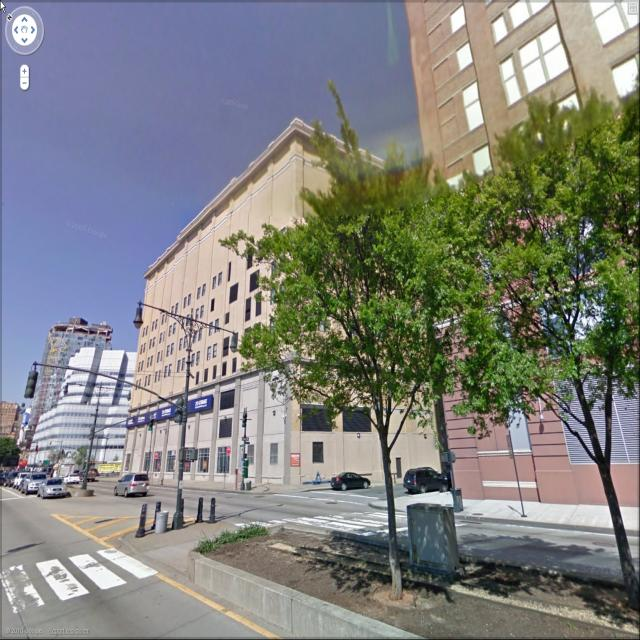b_1: (106, 122, 302, 472), (28, 314, 137, 475), (58, 346, 148, 416)
b_2: (121, 112, 445, 484), (404, 1, 640, 510)
